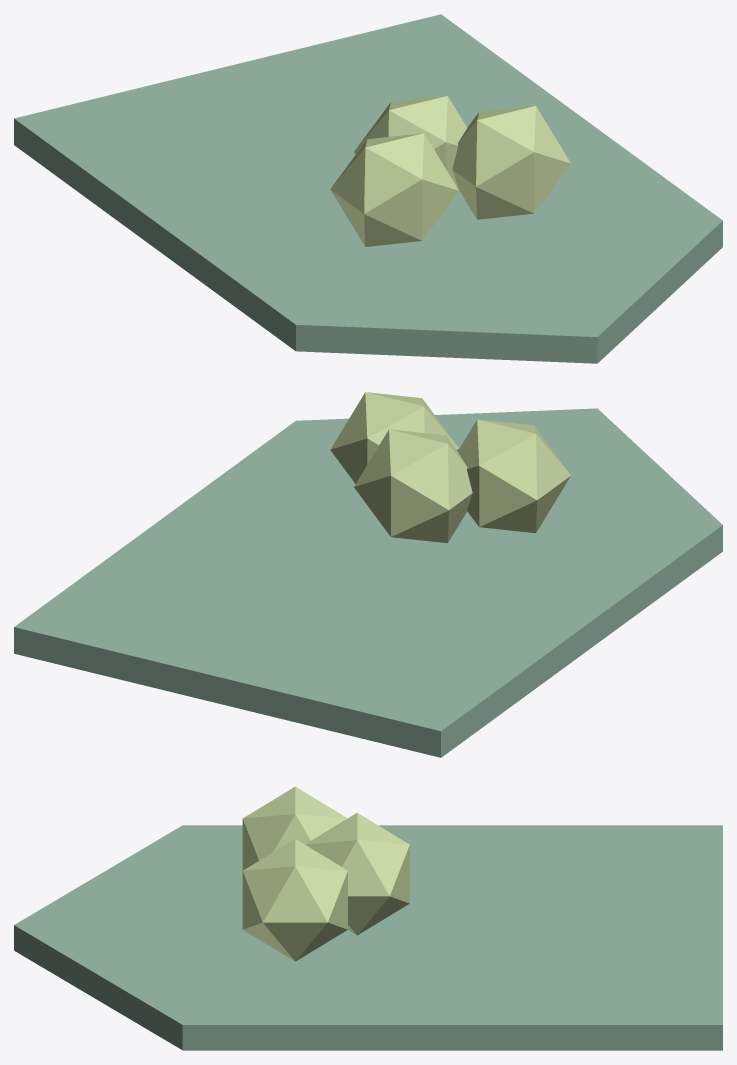
File: shrubland.glb
3 views of the same model, one above another, from view 1: azimuth 30°, elevation 25°; view 2: azimuth 150°, elevation 25°; view 3: azimuth 270°, elevation 25° (orthographic). The views are drawn at different scales.
Visible parts, largest first — view 1: shrub-card-base, shrub--0.22, shrub-0.22, shrub-0; view 2: shrub-card-base, shrub-0, shrub--0.22, shrub-0.22; view 3: shrub-card-base, shrub-0.22, shrub-0, shrub--0.22.
Boxes of the visible parts, box(x1,y1,x2,y2) form: shrub-card-base: box(14, 14, 722, 363); shrub--0.22: box(330, 133, 458, 246); shrub-0.22: box(452, 106, 570, 219); shrub-0: box(354, 96, 466, 187); shrub-card-base: box(14, 408, 722, 757); shrub-0: box(354, 429, 472, 543); shrub--0.22: box(457, 419, 570, 533); shrub-0.22: box(330, 392, 458, 483); shrub-card-base: box(14, 825, 722, 1050); shrub-0.22: box(242, 839, 347, 961); shrub-0: box(305, 812, 409, 935); shrub--0.22: box(242, 786, 347, 870).
Bounding box in the file's own units: 1.68 × 0.4871 × 2.52.
